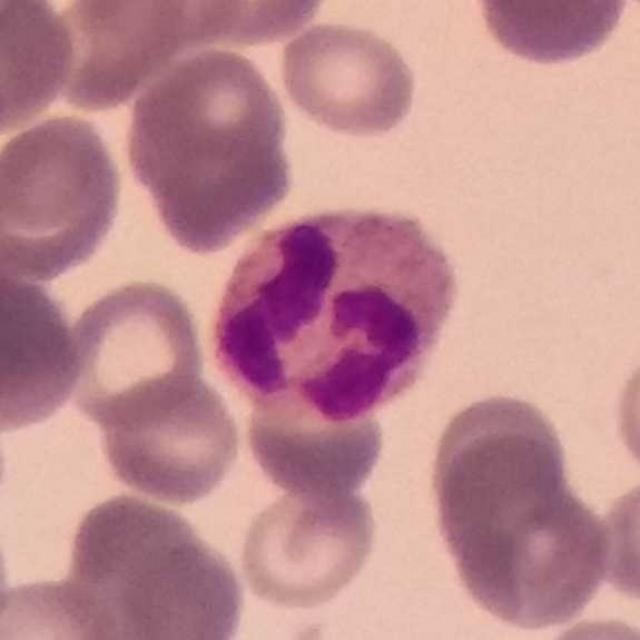Neutrophil: (202, 198, 466, 423)
RBC: (426, 430, 617, 633), (120, 41, 298, 256), (61, 488, 251, 640), (58, 274, 209, 431), (0, 107, 129, 284), (422, 388, 573, 534), (92, 370, 247, 508), (239, 362, 391, 501), (15, 0, 194, 116), (234, 474, 382, 613), (274, 16, 422, 142), (0, 267, 87, 435), (470, 0, 633, 70), (0, 1, 80, 141), (71, 1, 252, 52), (0, 572, 125, 640), (177, 0, 337, 50), (589, 470, 640, 610), (609, 328, 640, 493), (523, 612, 640, 640)
